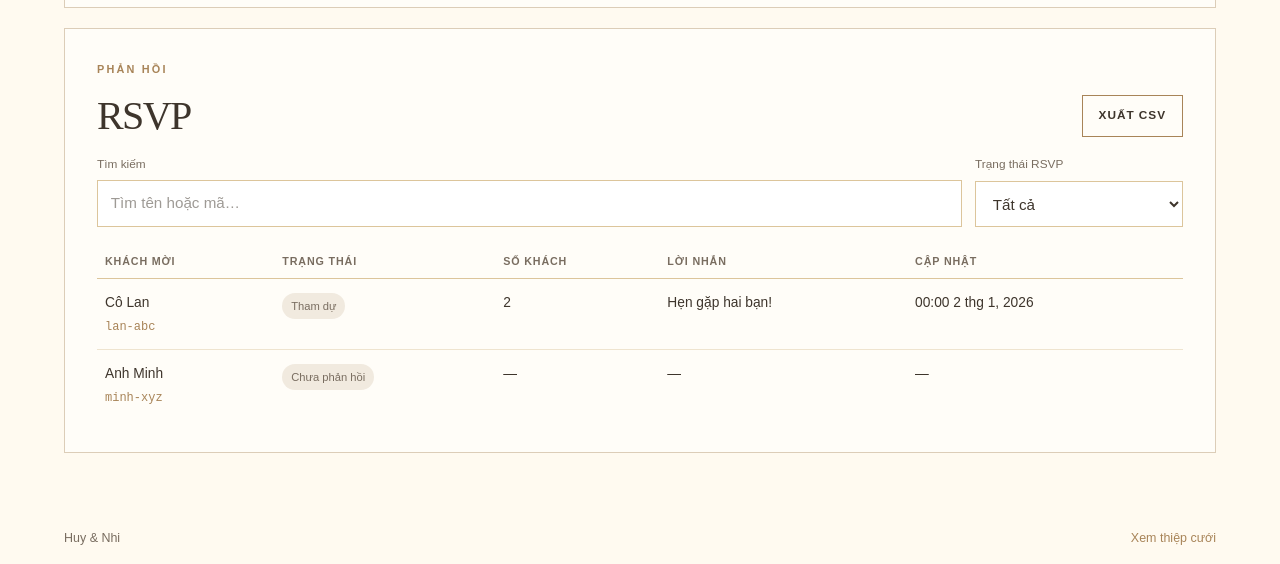
Test: AdminDashboard › filters RSVP rows to pending guests
The image size is (1280, 564).
(page scrolled)
Select "Chưa phản hồi" in the dropdown labelled "Trạng thái RSVP": (1079, 204) x1=975 y1=181 x2=1183 y2=227
(page scrolled)
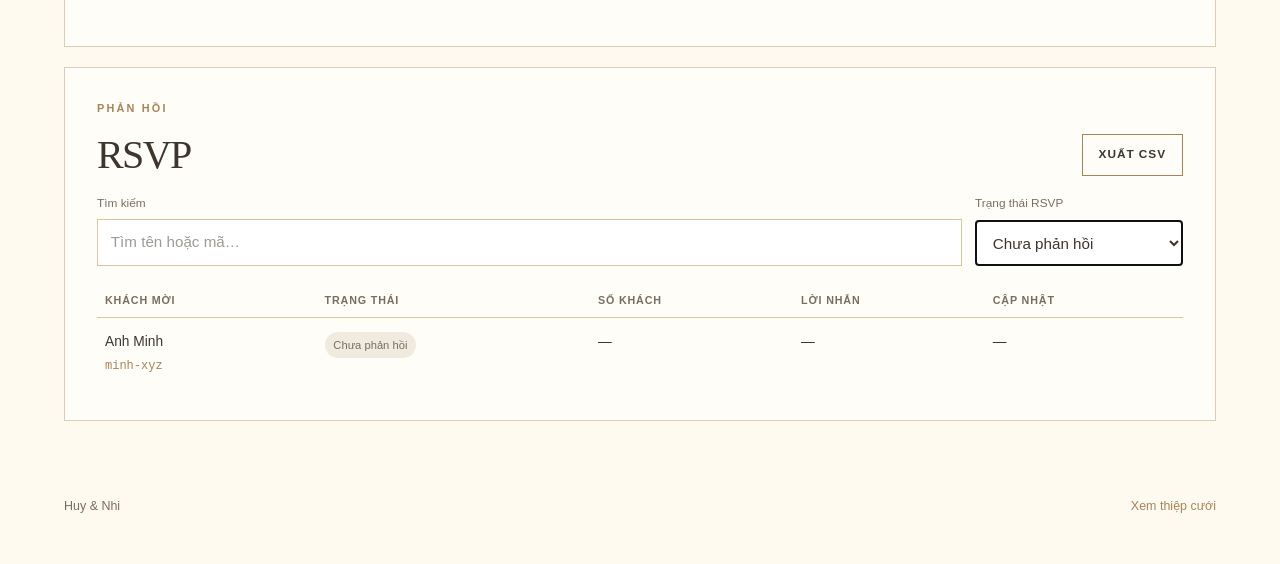
expect the text "Hẹn gặp hai bạn!" is gone: met
